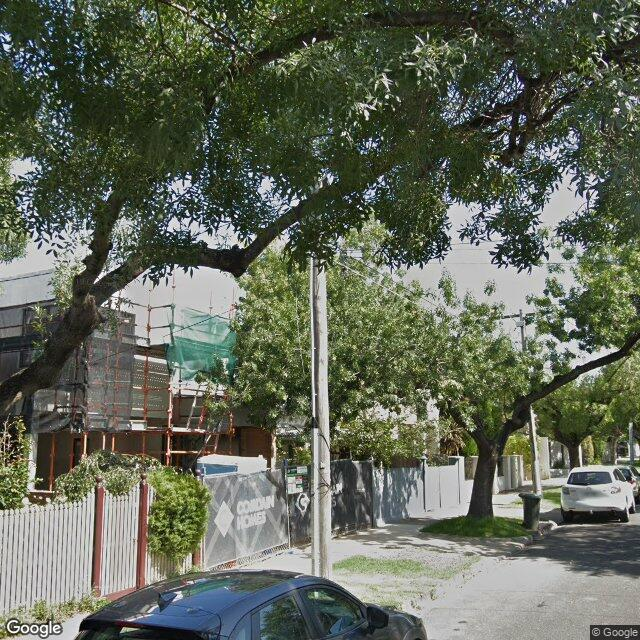crossarm: (489, 310, 555, 321)
timber-pole: (311, 247, 334, 580), (519, 310, 544, 497)
